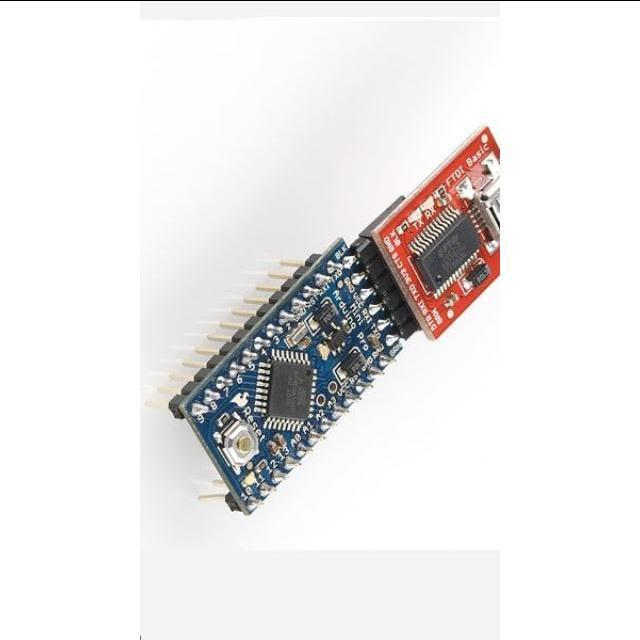Arduino-ProMini: (172, 238, 405, 514)
